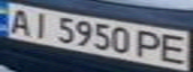0: (109, 25, 133, 56)
5: (51, 15, 78, 45), (90, 20, 115, 52)
9: (72, 18, 93, 48)
A: (3, 6, 36, 35)
E: (157, 32, 193, 65)
I: (27, 10, 57, 39)
P: (133, 28, 166, 61)
